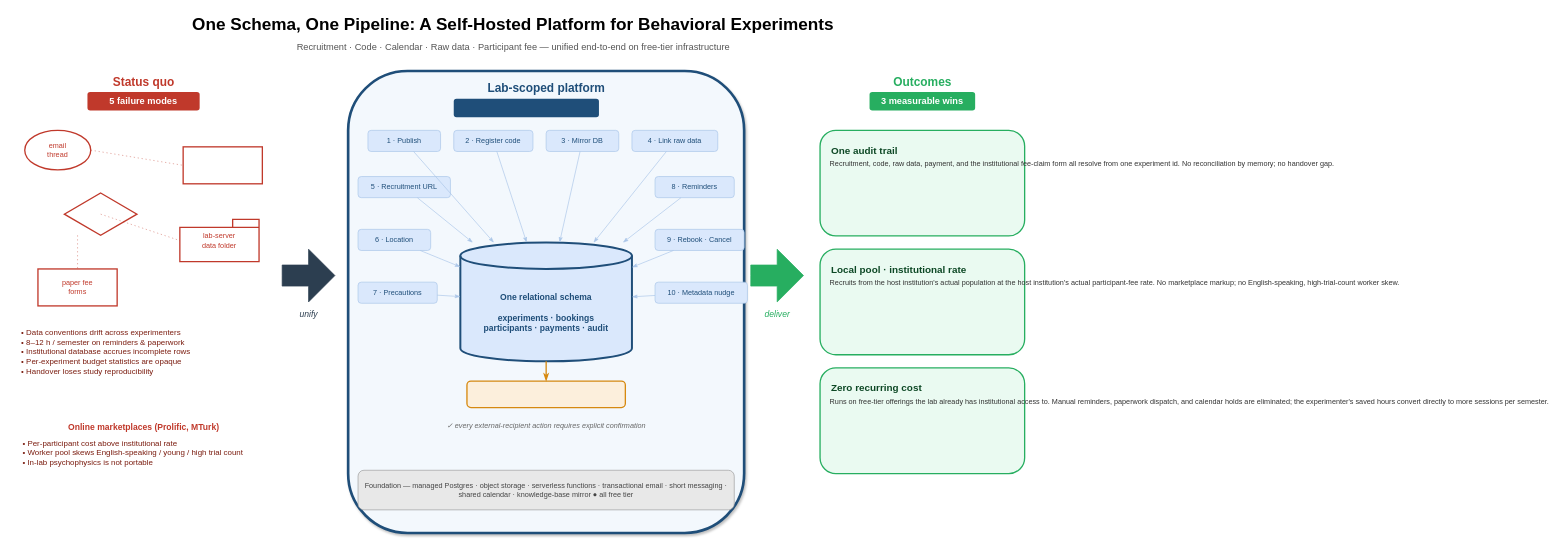
This 1560x550 diagram has some shape labels left out. Each missing label, with the centre of its shape:
"11 sequenced operations" belongs at [526,107].
"11 · Fee claim & admin dispatch" belongs at [546,394].
"recruitment spreadsheet" belongs at [222,165].
"shared calendar" belongs at [100,214].
